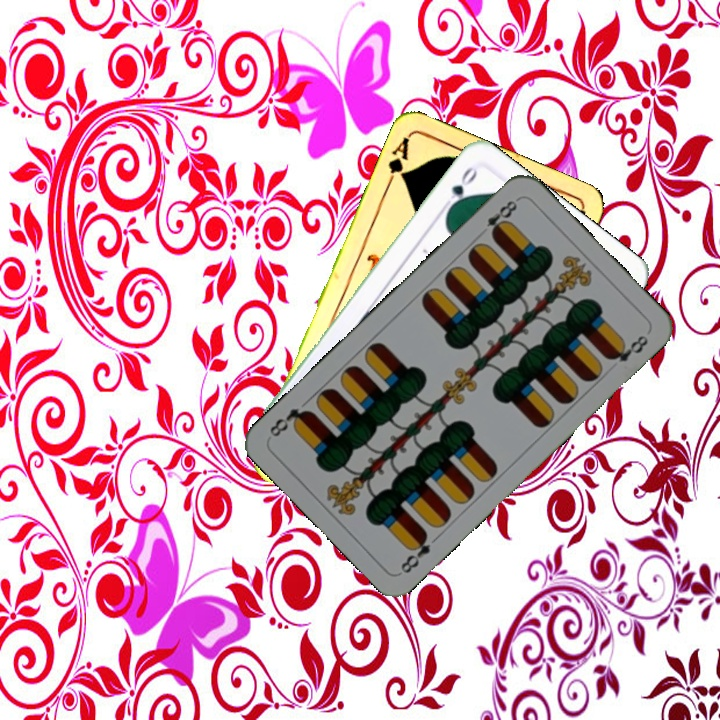E8: (396, 527, 433, 576), (482, 194, 521, 240)
GA: (382, 133, 412, 190)
GO: (437, 162, 481, 215)
